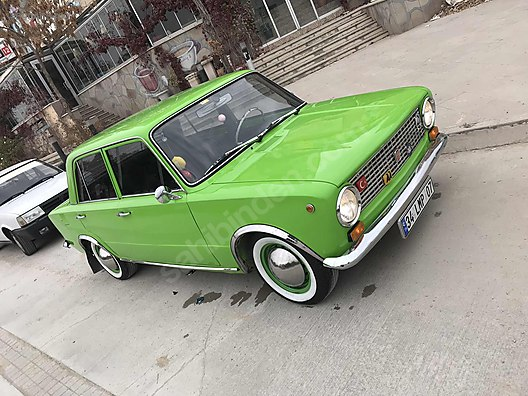murat: (38, 45, 454, 311)
